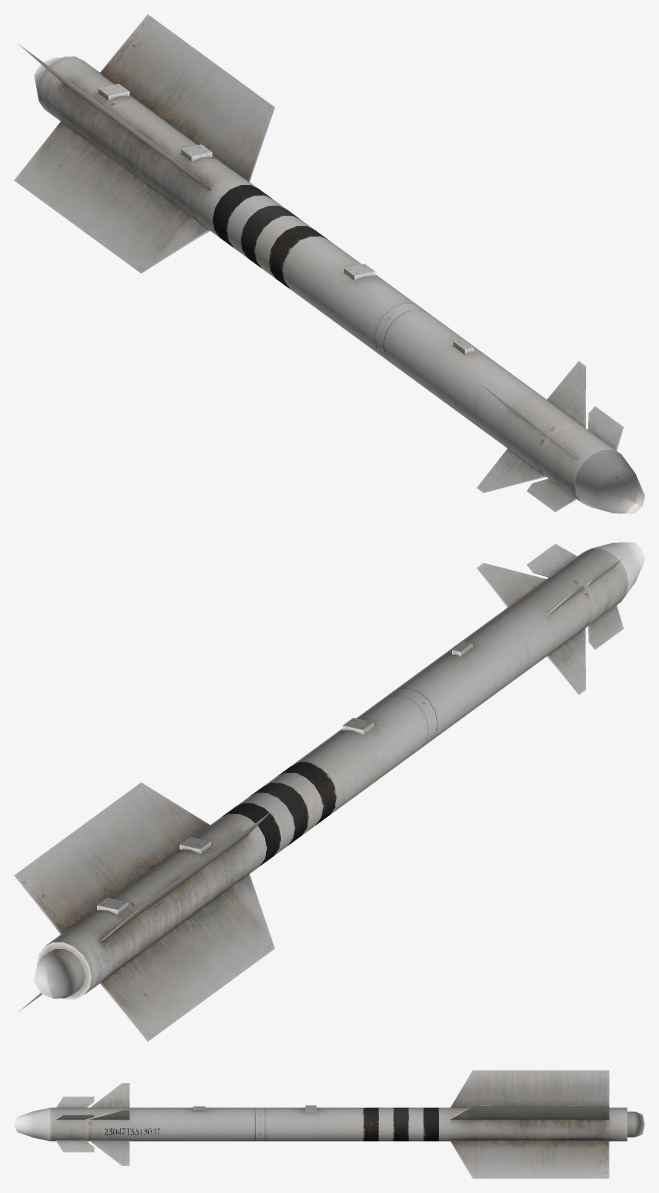
Rendered from missiles.fbx.
The picture shows the model from 3 angles, top to bottom: view 1: azimuth 30°, elevation 25°; view 2: azimuth 150°, elevation 25°; view 3: azimuth 270°, elevation 25°; orthographic projection. The views are drawn at different scales.
Parts seen in each view (by area): view 1: R-27; view 2: R-27; view 3: R-27.
Part boxes in pixels (x1=…): R-27: x1=14, y1=14, x2=644, y2=513; R-27: x1=14, y1=542, x2=644, y2=1041; R-27: x1=14, y1=1070, x2=644, y2=1178.
Bounding box in the file's own units: 39.42 × 39.42 × 300.
Materials: 1 (1 with a texture image).
